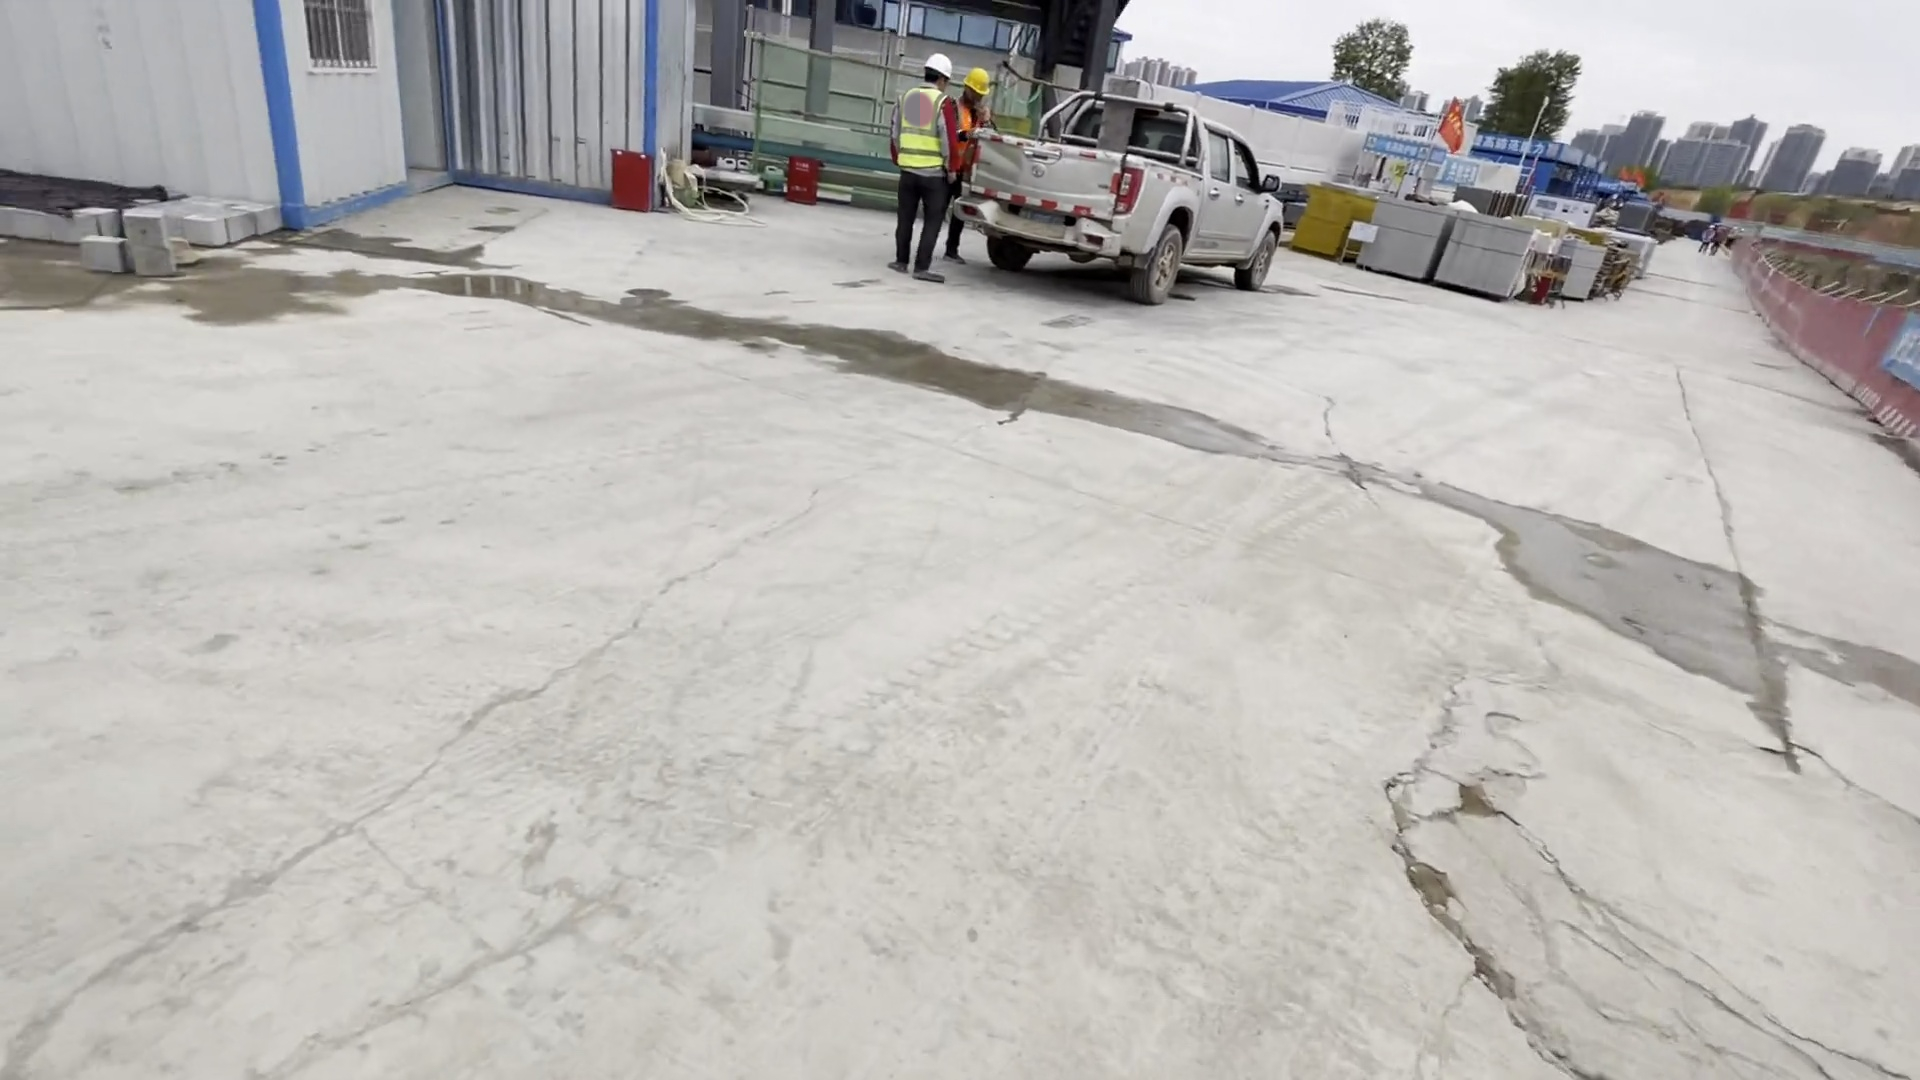board: (1304, 181, 1377, 261)
brick: (1364, 191, 1536, 304), (1555, 233, 1605, 306)
fence: (1726, 249, 1920, 473)
helmet: (963, 65, 990, 93), (924, 53, 952, 79)
person: (889, 50, 946, 284), (954, 61, 990, 261)
slogan: (1466, 129, 1549, 163)
vest: (899, 89, 946, 170), (957, 101, 984, 170)
